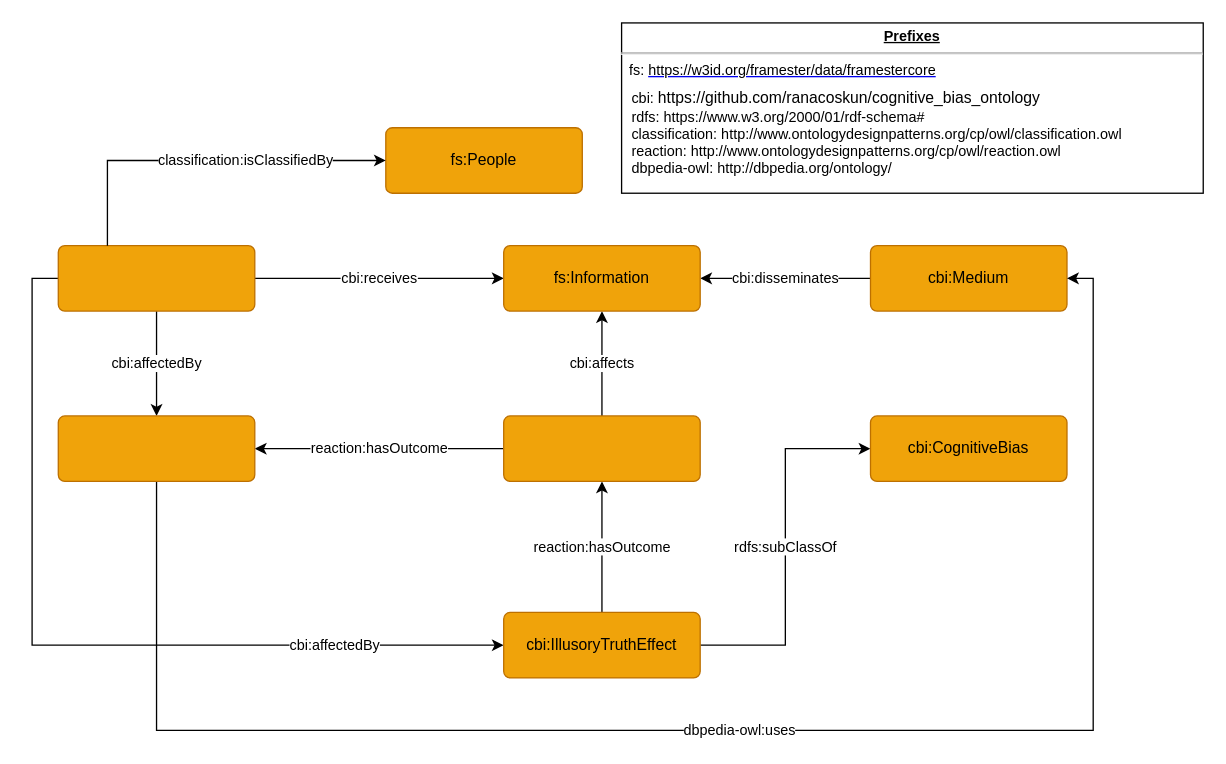
The diagram is 1226 pixels wide and 764 high, and some of its shapes have lost their labels. Each missing label, with the centre of its shape:
"cbi:BeliefFormation" goes at (601,448).
"cbi:BiasedAgent" goes at (156,277).
"cbi:Repetition" goes at (156,448).
